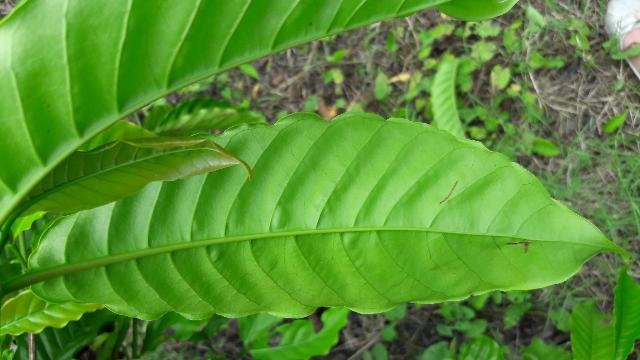healthy: (25, 111, 634, 326)
